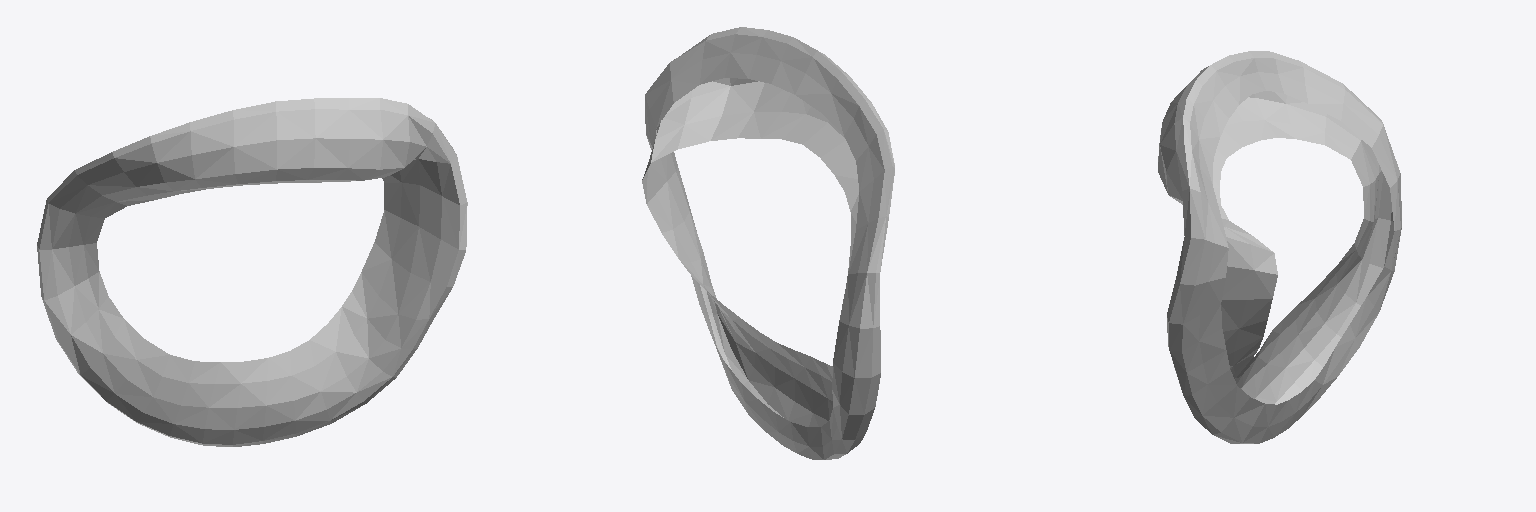
Rendered from orbicularis_oculi_orbital_right.obj.
3 views of the same model, side by side, from view 1: azimuth 30°, elevation 25°; view 2: azimuth 150°, elevation 25°; view 3: azimuth 270°, elevation 25° (orthographic).
Visible parts, largest first — view 1: Orbicularis_Oculi_Orbital_Muscle_Right_Orbicularis_Oculi_Muscle_; view 2: Orbicularis_Oculi_Orbital_Muscle_Right_Orbicularis_Oculi_Muscle_; view 3: Orbicularis_Oculi_Orbital_Muscle_Right_Orbicularis_Oculi_Muscle_.
Part boxes in pixels (x1,y1,x2,y2): Orbicularis_Oculi_Orbital_Muscle_Right_Orbicularis_Oculi_Muscle_: (37, 98, 467, 446); Orbicularis_Oculi_Orbital_Muscle_Right_Orbicularis_Oculi_Muscle_: (642, 27, 894, 459); Orbicularis_Oculi_Orbital_Muscle_Right_Orbicularis_Oculi_Muscle_: (1158, 51, 1401, 443).
Bounding box in the file's own units: 0.6237 × 0.667 × 0.4014.